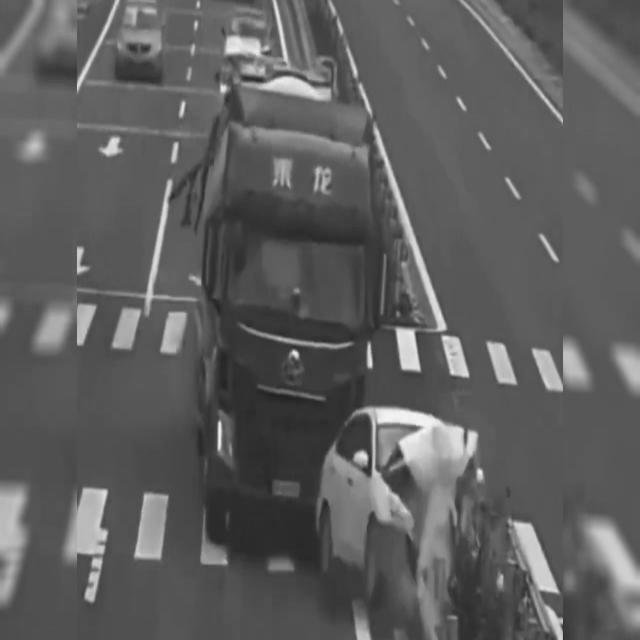accident: (186, 64, 521, 628)
vehicle: (111, 0, 166, 85), (218, 6, 275, 64)
